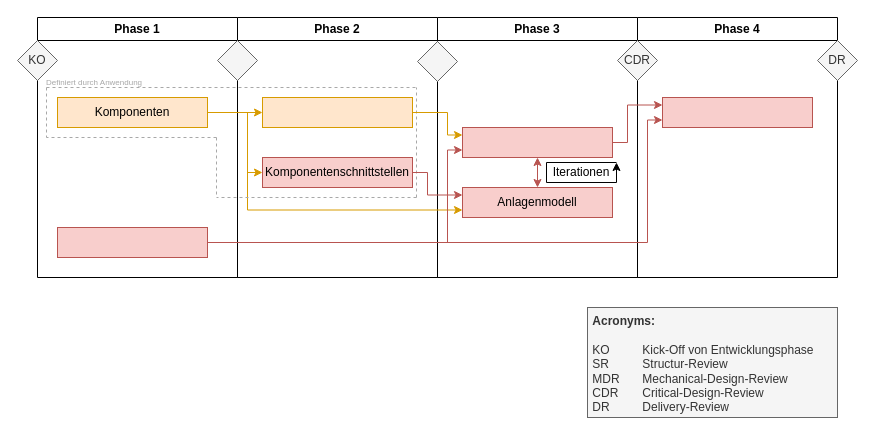
Image size: 875x435. Some labels were removed from this diagram. The shapes that lost their labels are listed below. From the top down, each one's centre as x and y in pixels, then its label:
point 237,60: SR
point 437,61: MDR
point 337,112: Mechanischer Aufbau
point 737,112: HMI
point 537,142: Prozessmodell
point 132,242: Struktur
